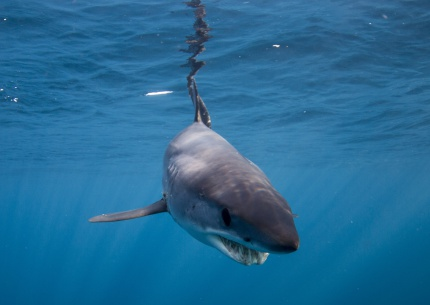Mako: (83, 70, 314, 277)
